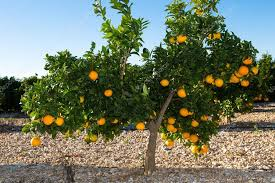orange: (157, 79, 171, 89), (102, 90, 113, 99), (216, 78, 224, 88)
